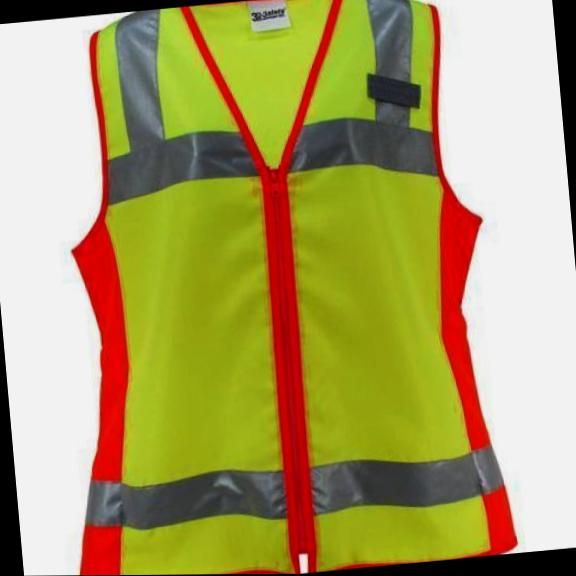safety_vest: (34, 0, 518, 576)
